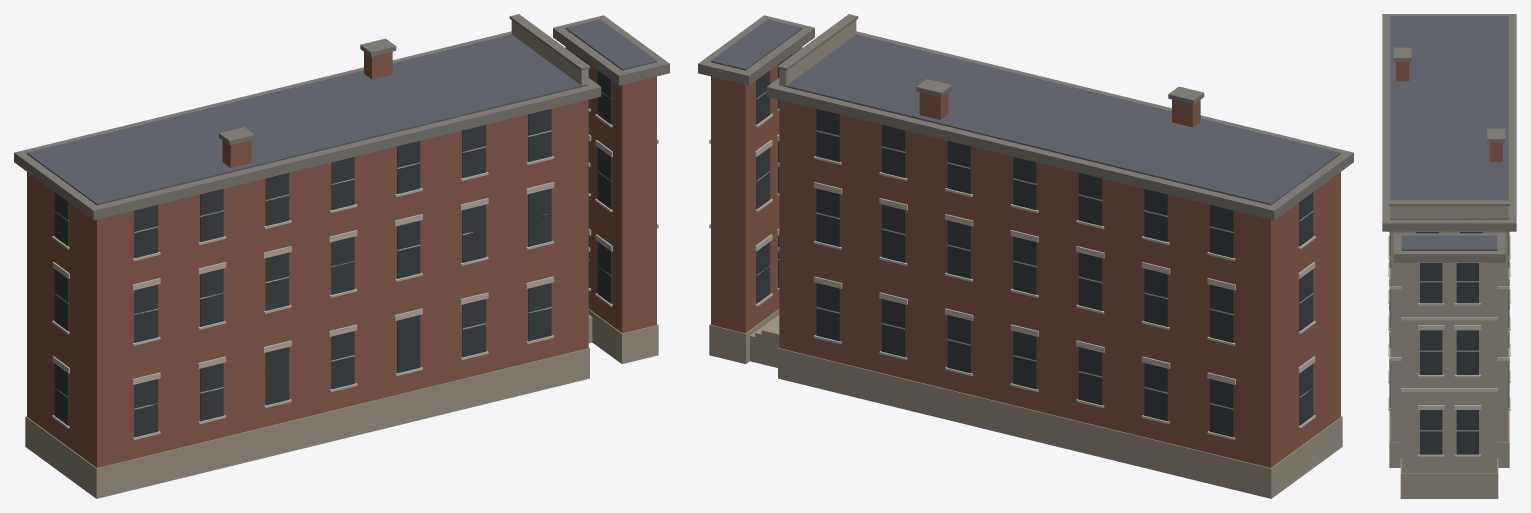
Rendered from house_2018_prairie__draft_1904.glb.
The picture shows the model from 3 angles, left to right: view 1: azimuth 30°, elevation 25°; view 2: azimuth 150°, elevation 25°; view 3: azimuth 270°, elevation 25°; orthographic projection. The views are drawn at different scales.
Visible parts, largest first — view 1: house_2018_prairie__draft_1904; view 2: house_2018_prairie__draft_1904; view 3: house_2018_prairie__draft_1904.
Part boxes in pixels (x1,y1,x2,y2): house_2018_prairie__draft_1904: (14, 14, 669, 498); house_2018_prairie__draft_1904: (698, 14, 1353, 498); house_2018_prairie__draft_1904: (1382, 14, 1516, 498).
Bounding box in the file's own units: 25.2 × 13.34 × 5.95.
